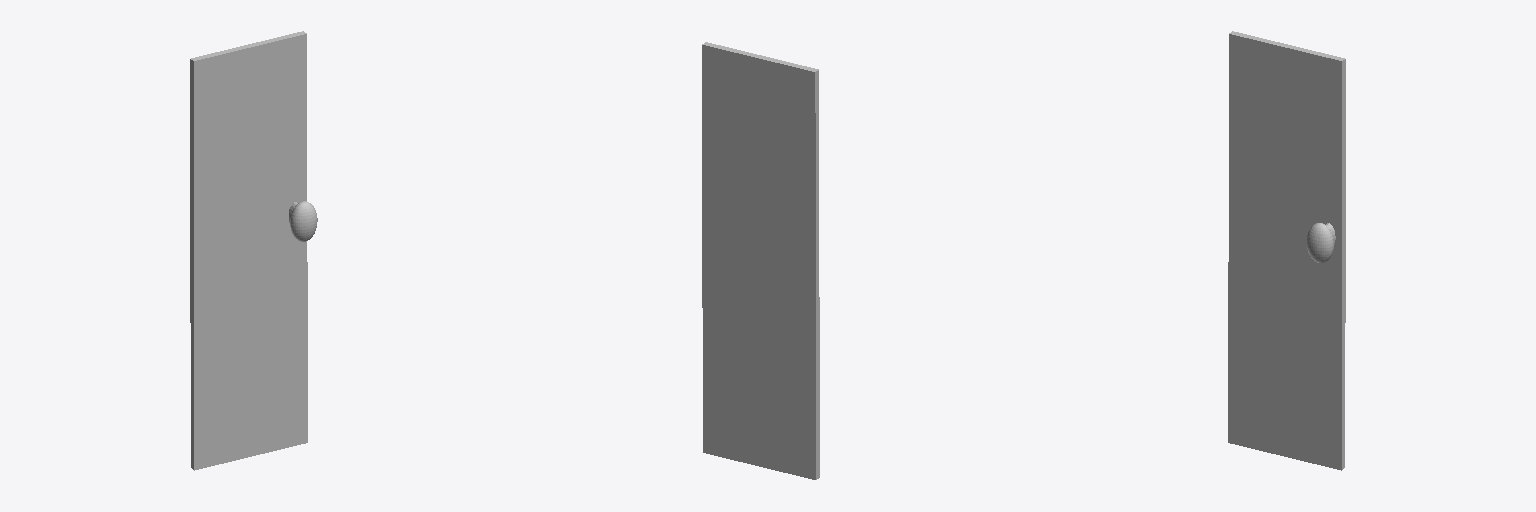
The model's file is wardrobe_door2.obj.
3 views of the same model, side by side, from view 1: azimuth 30°, elevation 25°; view 2: azimuth 150°, elevation 25°; view 3: azimuth 330°, elevation 25° (orthographic).
Parts seen in each view (by area): view 1: obj_0.001; view 2: obj_0.001; view 3: obj_0.001.
Part boxes in pixels (left/top/right/bottom): obj_0.001: left=190, top=31, right=317, bottom=470; obj_0.001: left=702, top=42, right=819, bottom=479; obj_0.001: left=1228, top=31, right=1345, bottom=470.
Size of the model in its own units: 18 by 62 by 5.1.